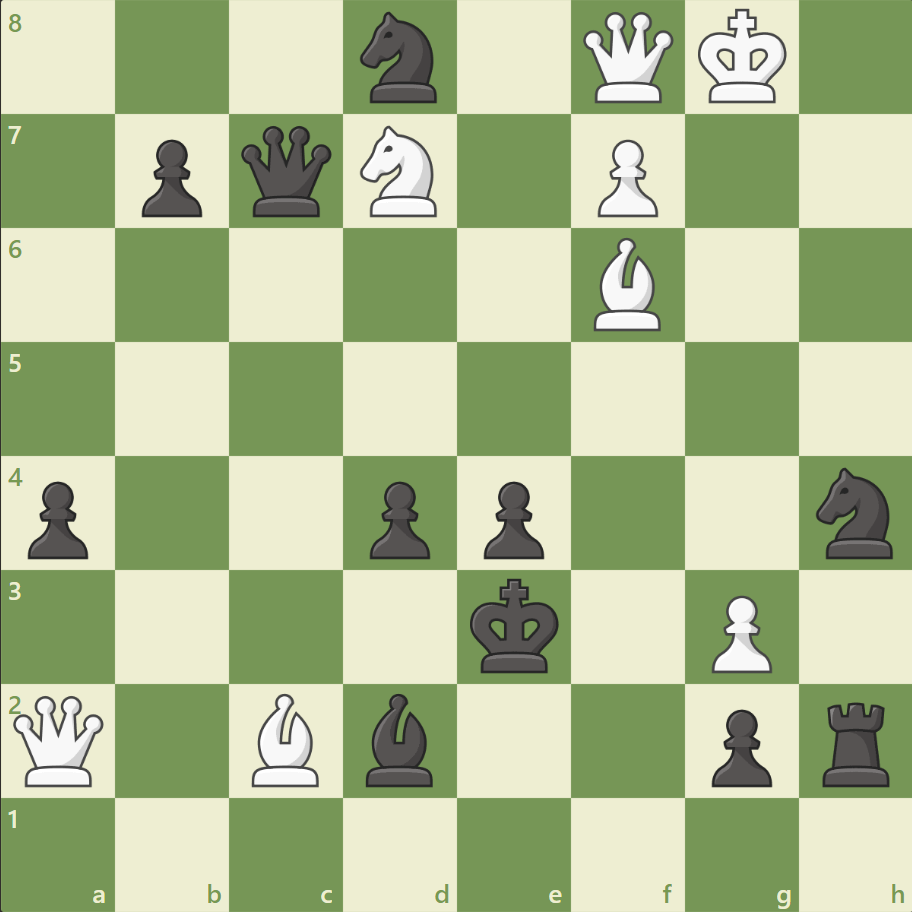B: (585, 233, 669, 336), (244, 687, 328, 790)
K: (692, 4, 792, 112)
N: (351, 121, 449, 223)
P: (701, 586, 776, 677), (588, 132, 662, 223)
Q: (578, 9, 677, 108), (10, 690, 109, 789)
b: (358, 687, 442, 790)
k: (465, 571, 565, 679)
n: (351, 7, 449, 110), (806, 461, 903, 564)
p: (133, 132, 208, 223), (20, 473, 95, 564), (474, 473, 549, 564), (701, 700, 776, 791), (361, 473, 435, 564)
q: (237, 122, 336, 222)
r: (814, 693, 897, 790)
